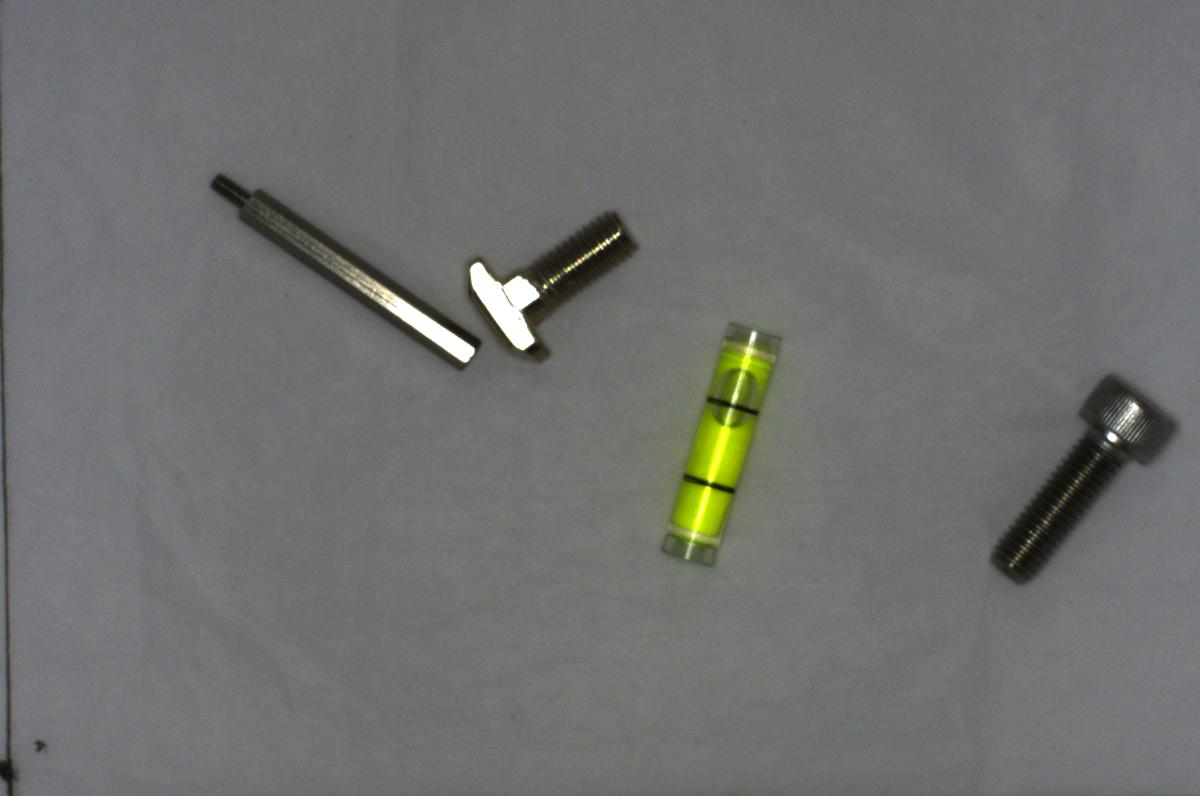Hexagon screw: (980, 361, 1182, 587)
Hexagonal steel column: (197, 169, 475, 372)
Horizontal bubble: (652, 320, 779, 569)
T-shaped screw: (454, 209, 637, 370)
